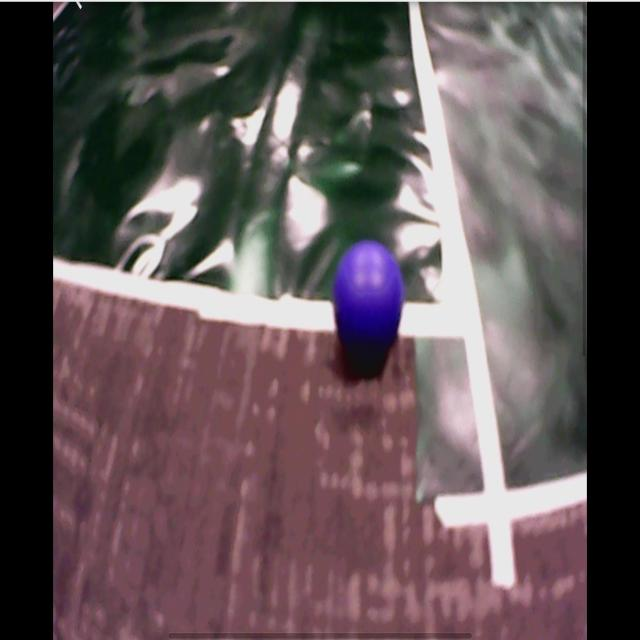ball: (333, 242, 405, 348)
